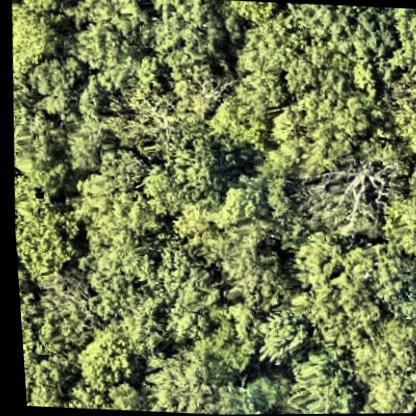tree-top: (231, 0, 395, 165), (285, 232, 403, 348), (68, 168, 158, 290), (258, 160, 378, 232), (130, 346, 244, 415), (207, 219, 286, 310), (142, 0, 229, 79), (106, 86, 194, 163), (67, 0, 152, 78), (10, 188, 77, 284), (347, 324, 416, 414), (137, 237, 218, 309), (28, 270, 104, 346), (143, 141, 226, 210), (6, 0, 67, 90), (189, 303, 259, 374), (9, 100, 65, 180), (67, 325, 132, 393), (281, 352, 349, 414), (17, 319, 64, 406), (245, 312, 308, 373), (371, 188, 416, 259), (385, 61, 416, 146), (384, 7, 416, 65)
